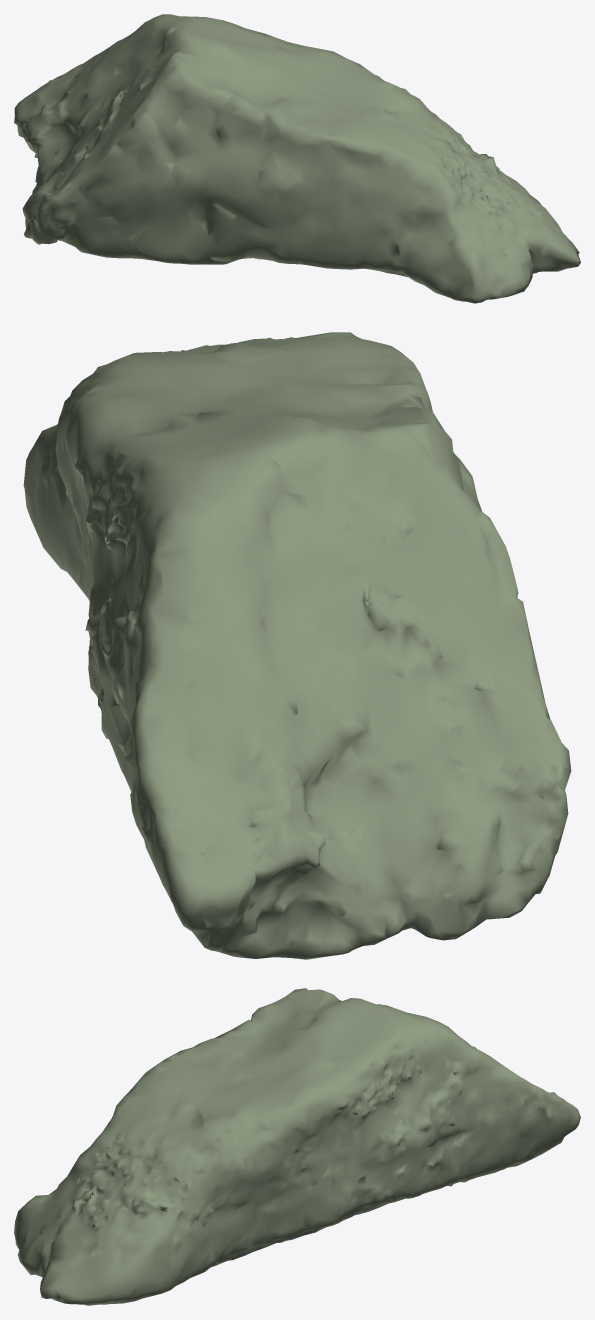
Rendered from rock_moss_set_01_1.glb.
3 renders of one model, top to bottom at view 1: azimuth 30°, elevation 25°; view 2: azimuth 150°, elevation 25°; view 3: azimuth 270°, elevation 25°, orthographic. The views are drawn at different scales.
Parts seen in each view (by area): view 1: rock_moss_set_01_1; view 2: rock_moss_set_01_1; view 3: rock_moss_set_01_1.
Boxes of the visible parts, x1,y1,x2,y2 form: rock_moss_set_01_1: [14, 14, 580, 303]; rock_moss_set_01_1: [23, 332, 571, 959]; rock_moss_set_01_1: [14, 988, 580, 1305].
Size of the model in its own units: 2.66 by 1.26 by 3.26.
